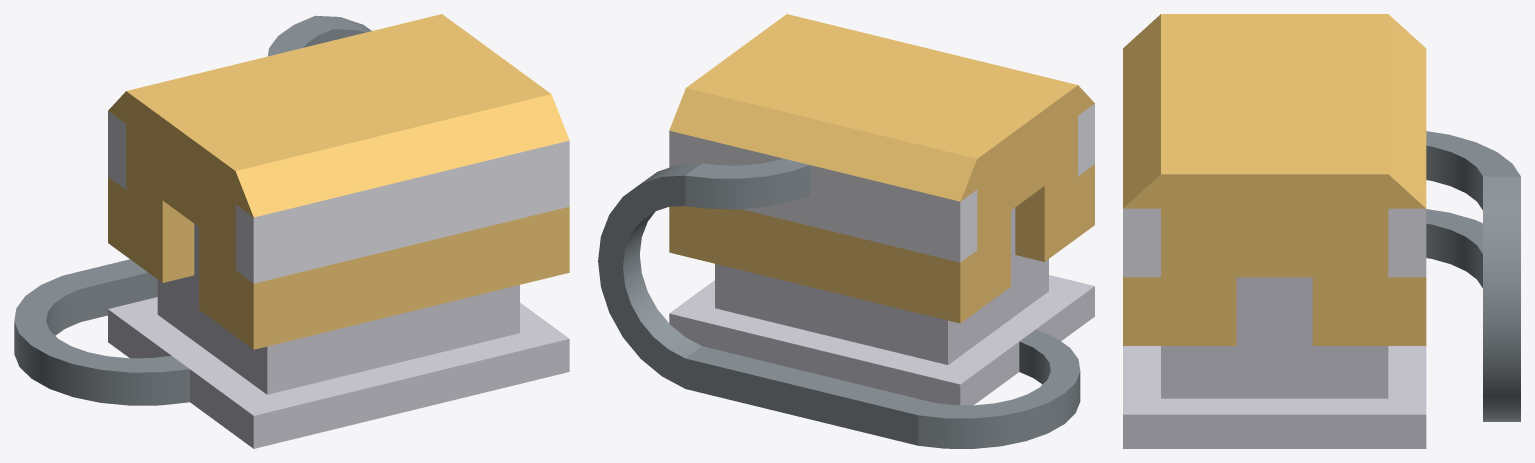
Rendered from power_generator.glb.
The picture shows the model from 3 angles, left to right: view 1: azimuth 30°, elevation 25°; view 2: azimuth 150°, elevation 25°; view 3: azimuth 270°, elevation 25°; orthographic projection. The views are drawn at different scales.
Parts seen in each view (by area): view 1: machine_generator; view 2: machine_generator; view 3: machine_generator.
Part boxes in pixels (box(x1,y1,x2,y2)): machine_generator: box(14, 14, 569, 448); machine_generator: box(598, 14, 1094, 448); machine_generator: box(1123, 14, 1520, 448).
Bounding box in the file's own units: 0.7 × 0.4 × 0.525.
1 material, 1 textured.
